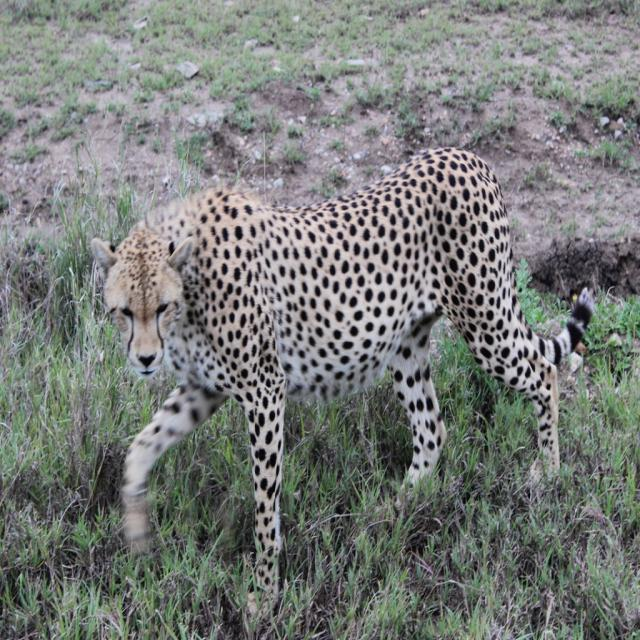Cheetah: (91, 144, 597, 634)
